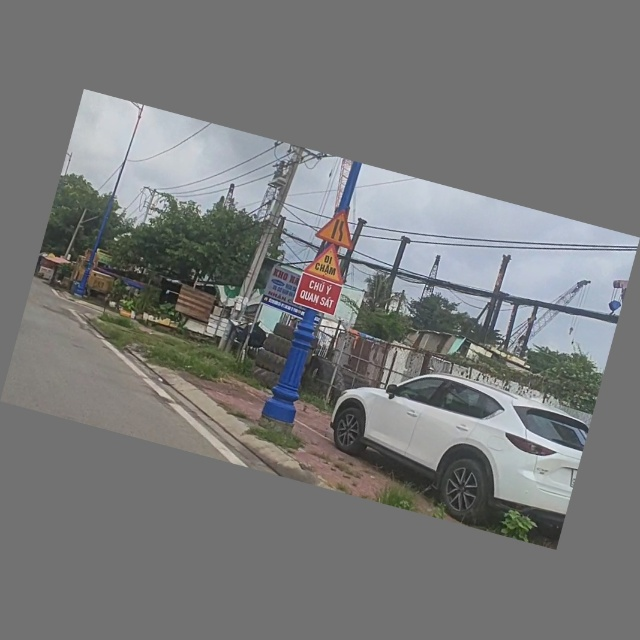W.203c: (314, 204, 362, 250)
W.245a: (302, 239, 353, 286)
